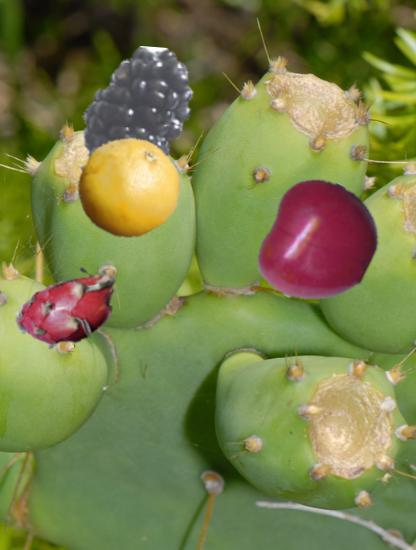Cherry: (258, 181, 383, 306)
Grapefruit: (74, 133, 181, 240)
Mulberry: (70, 46, 208, 184)
Pitahaya: (13, 253, 124, 364)
